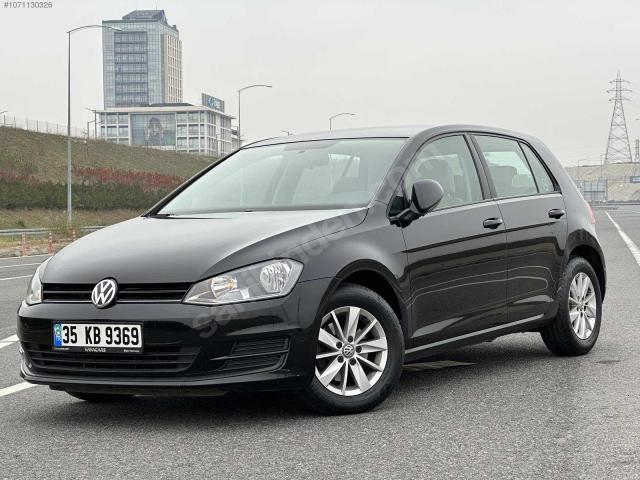plaka: (53, 324, 142, 353)
